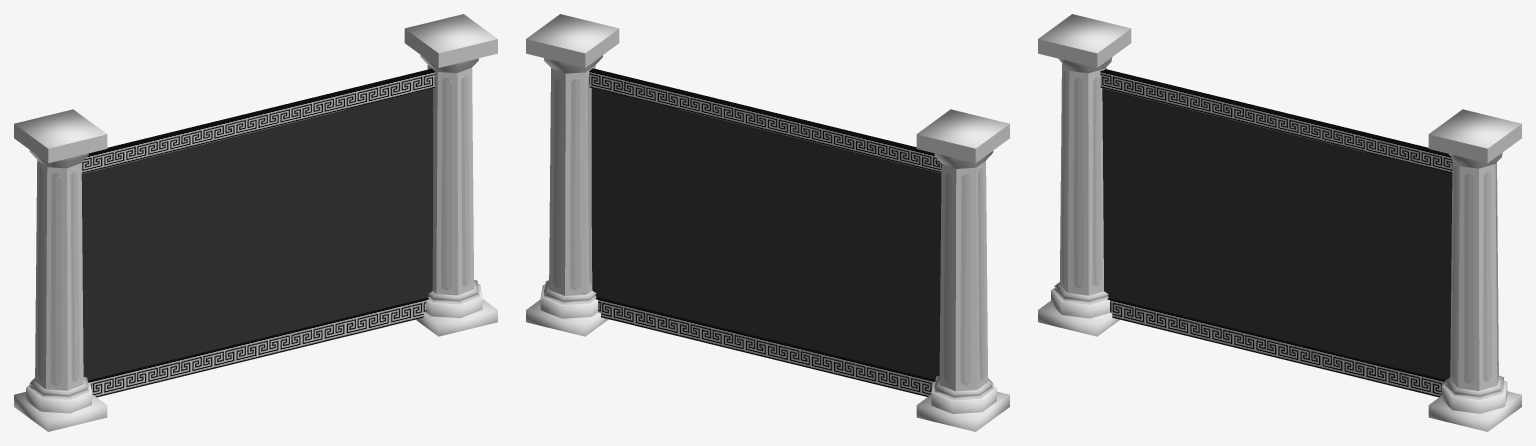
File: Screen.glb
The picture shows the model from 3 angles, left to right: view 1: azimuth 30°, elevation 25°; view 2: azimuth 150°, elevation 25°; view 3: azimuth 330°, elevation 25°; orthographic projection.
Visible parts, largest first — view 1: screen_asset, Columns_asset, Screen_Asset_Details; view 2: screen_asset, Columns_asset, Screen_Asset_Details; view 3: screen_asset, Columns_asset, Screen_Asset_Details.
Part boxes in pixels (<box>): screen_asset: <box>81,88,432,380</box>; Columns_asset: <box>14,14,497,431</box>; Screen_Asset_Details: <box>81,68,434,397</box>; screen_asset: <box>591,88,941,379</box>; Columns_asset: <box>526,14,1009,431</box>; Screen_Asset_Details: <box>589,68,941,396</box>; screen_asset: <box>1102,88,1452,379</box>; Columns_asset: <box>1038,14,1521,431</box>; Screen_Asset_Details: <box>1100,69,1452,397</box>.
Size of what is drawn, in the model's own units: 11.3 by 6.8 by 1.49.
Materials: 1 (1 with a texture image).
